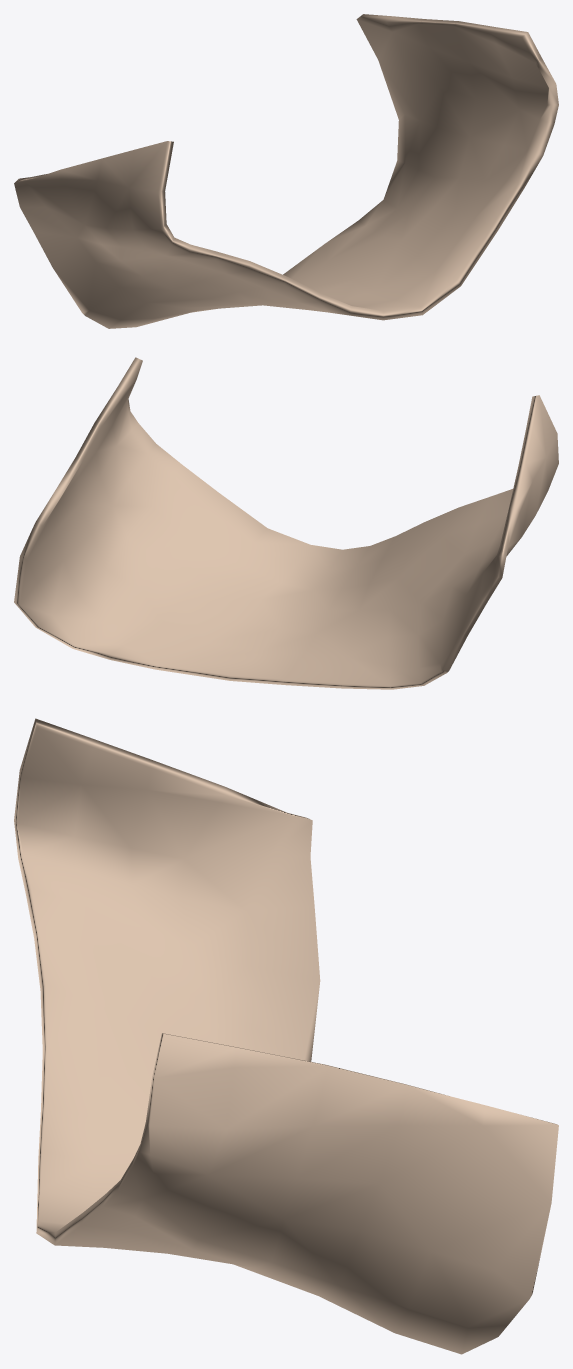
The picture shows the model from 3 angles, top to bottom: view 1: azimuth 30°, elevation 25°; view 2: azimuth 150°, elevation 25°; view 3: azimuth 270°, elevation 25°; orthographic projection. The views are drawn at different scales.
Visible parts, largest first — view 1: 右侧腕屈肌支持带; view 2: 右侧腕屈肌支持带; view 3: 右侧腕屈肌支持带.
Boxes of the visible parts, left/top/right/bottom form: 右侧腕屈肌支持带: left=14, top=14, right=558, bottom=328; 右侧腕屈肌支持带: left=14, top=357, right=558, bottom=689; 右侧腕屈肌支持带: left=14, top=718, right=558, bottom=1354.
Size of the model in its own units: 0.089 by 0.0506 by 0.0606.
